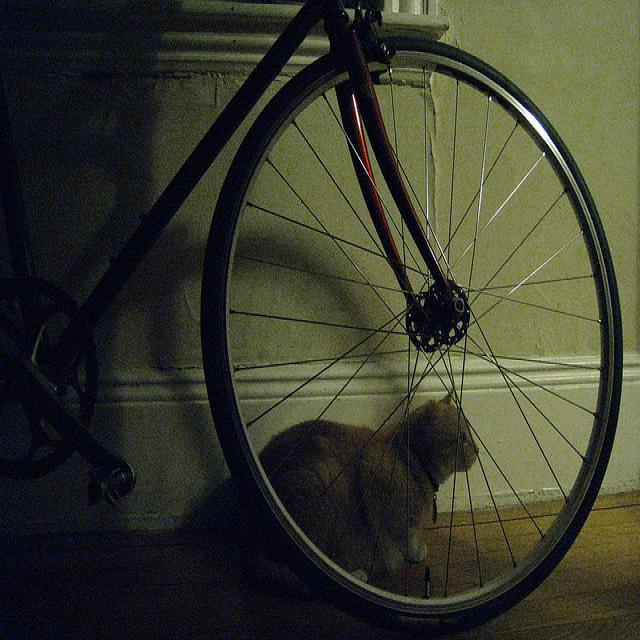Bicycle: (0, 15, 628, 624)
Cat: (246, 366, 491, 614)
